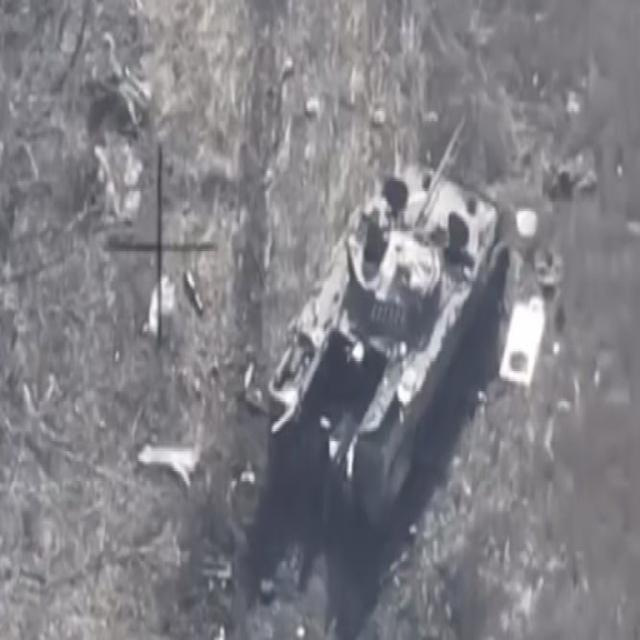APC-IFV: (255, 91, 513, 513)
